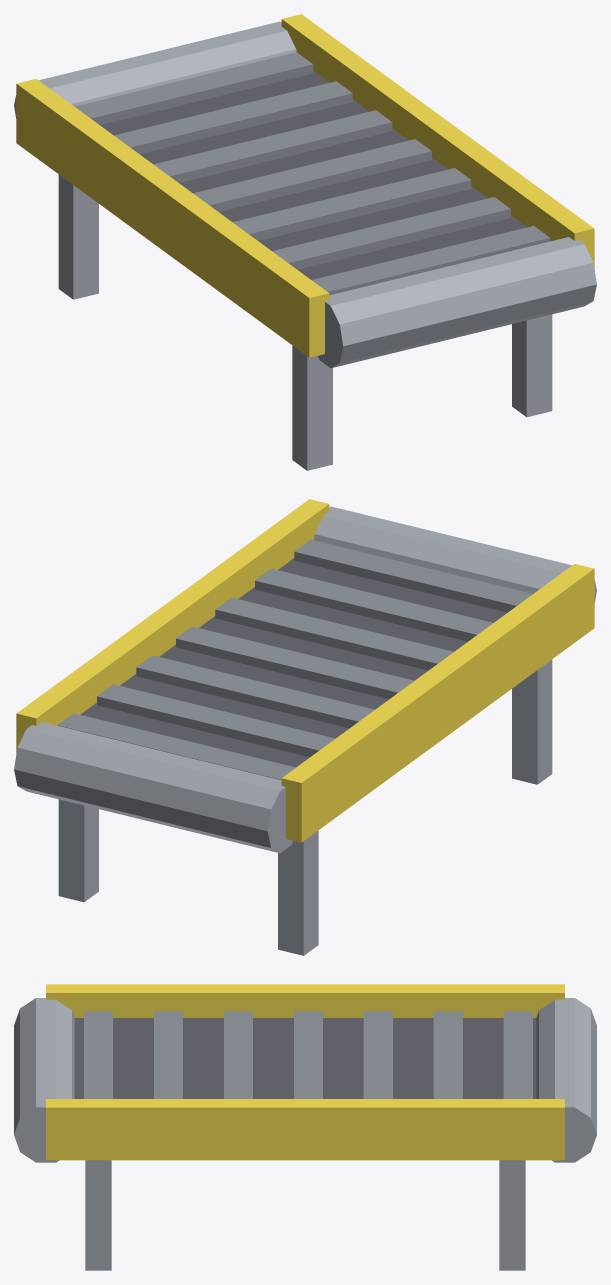
File: conveyor.glb
3 views of the same model, one above another, from view 1: azimuth 30°, elevation 25°; view 2: azimuth 150°, elevation 25°; view 3: azimuth 270°, elevation 25° (orthographic). The views are drawn at different scales.
Visible parts, largest first — view 1: conveyor; view 2: conveyor; view 3: conveyor.
Boxes of the visible parts, x1,y1,x2,y2 form: conveyor: (14,14,596,470); conveyor: (14,499,596,955); conveyor: (14,984,596,1270).
Size of the model in its own units: 1 by 0.65 by 2.
